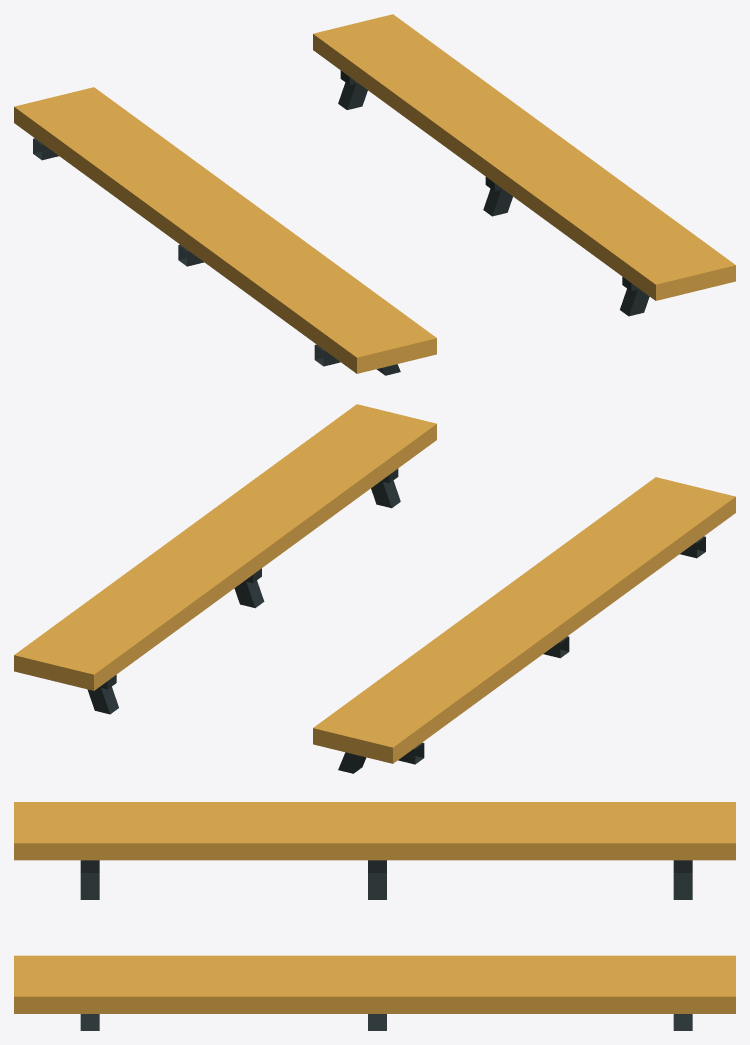
The model's file is OffroadBench.fbx.
The picture shows the model from 3 angles, top to bottom: view 1: azimuth 30°, elevation 25°; view 2: azimuth 150°, elevation 25°; view 3: azimuth 270°, elevation 25°; orthographic projection. The views are drawn at different scales.
Parts seen in each view (by area): view 1: OffroadBench; view 2: OffroadBench; view 3: OffroadBench.
Boxes of the visible parts, <box> form: OffroadBench: <box>14,14,735,375</box>; OffroadBench: <box>14,404,735,773</box>; OffroadBench: <box>14,802,735,1030</box>.
Bounding box in the file's own units: 170 × 23.73 × 263.
